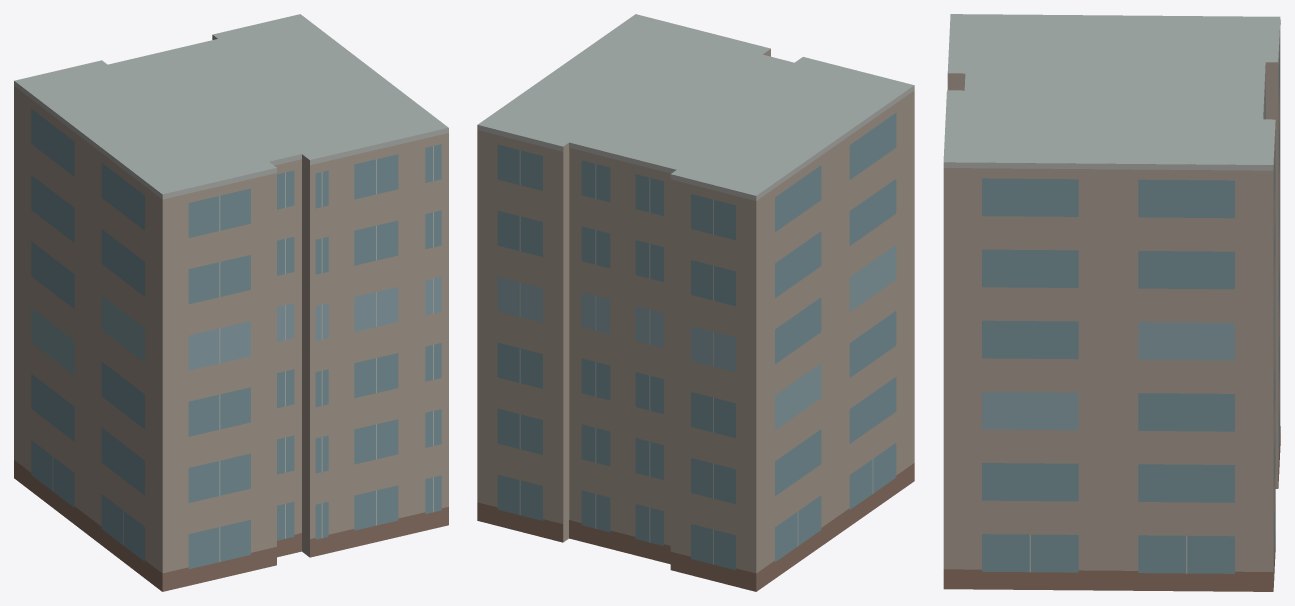
Rendered from survey-upis-32995446.glb.
3 renders of one model, left to right at view 1: azimuth 30°, elevation 25°; view 2: azimuth 150°, elevation 25°; view 3: azimuth 270°, elevation 25°, orthographic. The views are drawn at different scales.
Visible parts, largest first — view 1: survey-upis-32995446.tmp; view 2: survey-upis-32995446.tmp; view 3: survey-upis-32995446.tmp.
Boxes of the visible parts, x1,y1,x2,y2 form: survey-upis-32995446.tmp: (14,14,448,591); survey-upis-32995446.tmp: (477,14,914,591); survey-upis-32995446.tmp: (943,14,1280,591).
Bounding box in the file's own units: 14.25 × 18.75 × 13.43.
